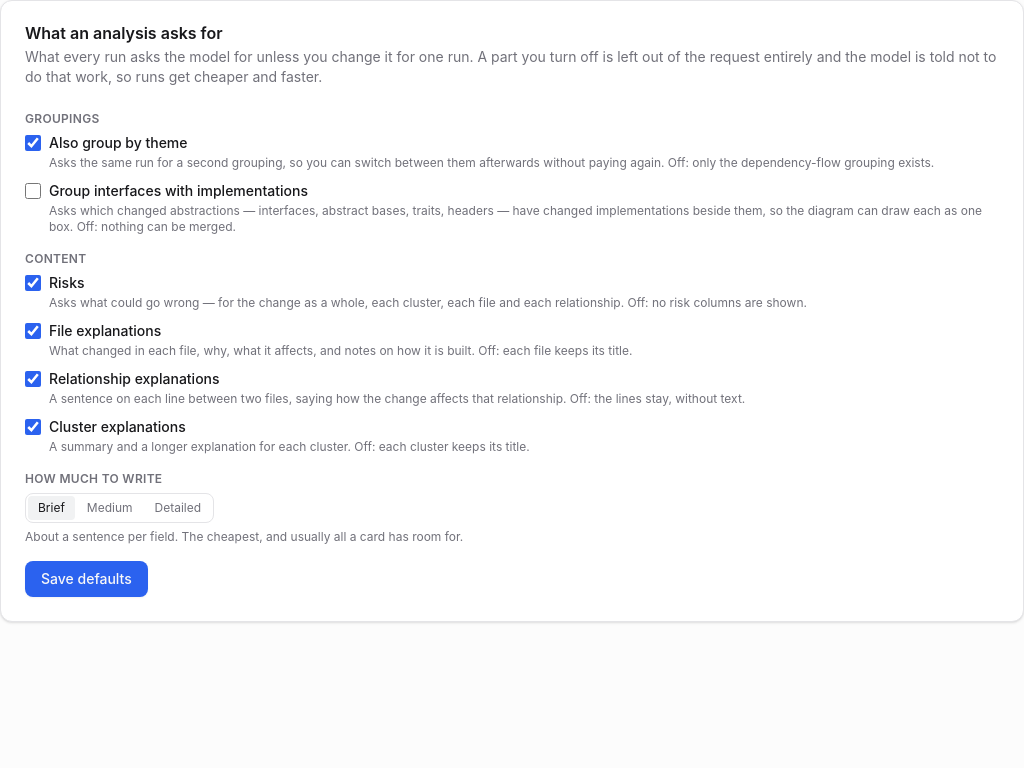
Test: AnalysisDefaultsForm › shows the stored defaults and saves the whole set when asked
Expected: the checkbox with test id "default-option-implementation-groups" is not checked, 25,183 -> 41,199
Expected: the text "Asks what could go wrong — for the change as a whole, each cluster, each file and each relationship. Off: no risk column" is shown, 49,295 -> 807,310
Click the checkbox with test id "default-option-risks" at (33, 283), box 25,275 -> 41,291
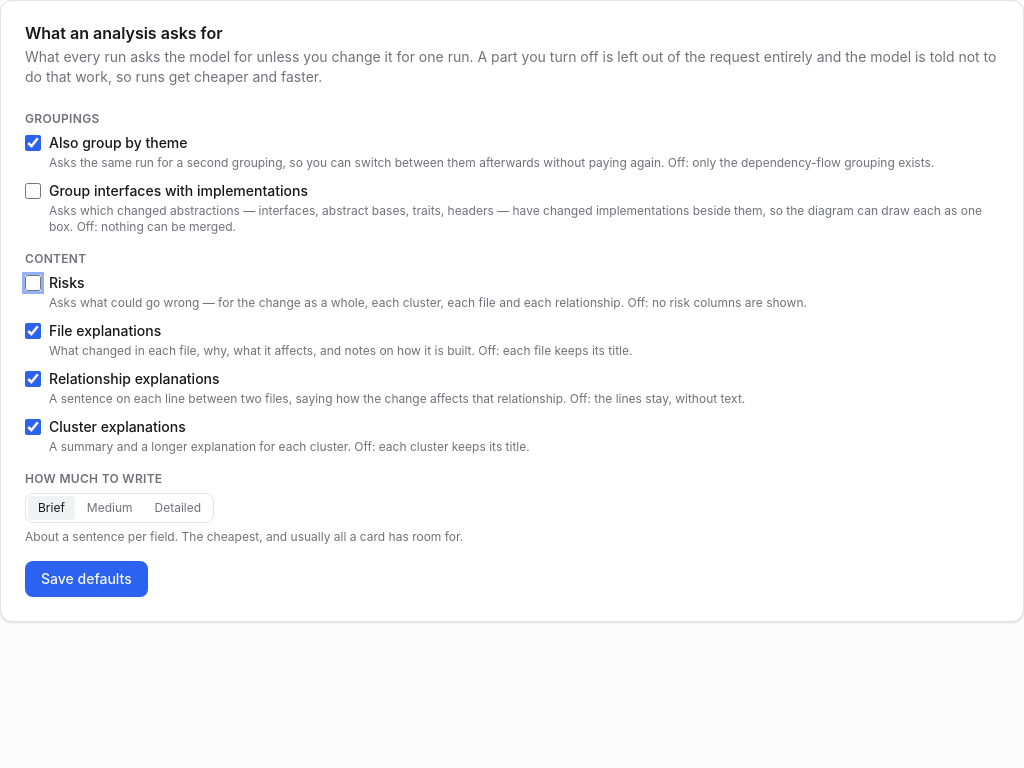
Click the button with test id "default-option-verbosity-medium" at (110, 508), box 77,496 -> 142,520
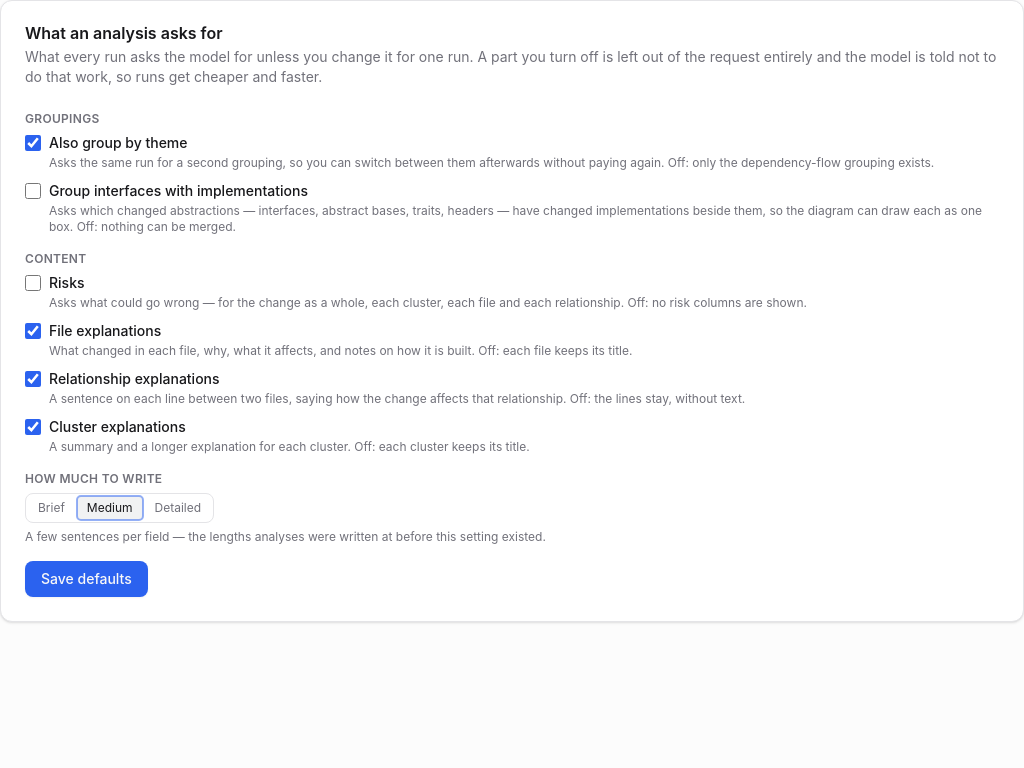
Click the button with test id "analysis-defaults-save" at (86, 579), box 25,561 -> 148,597
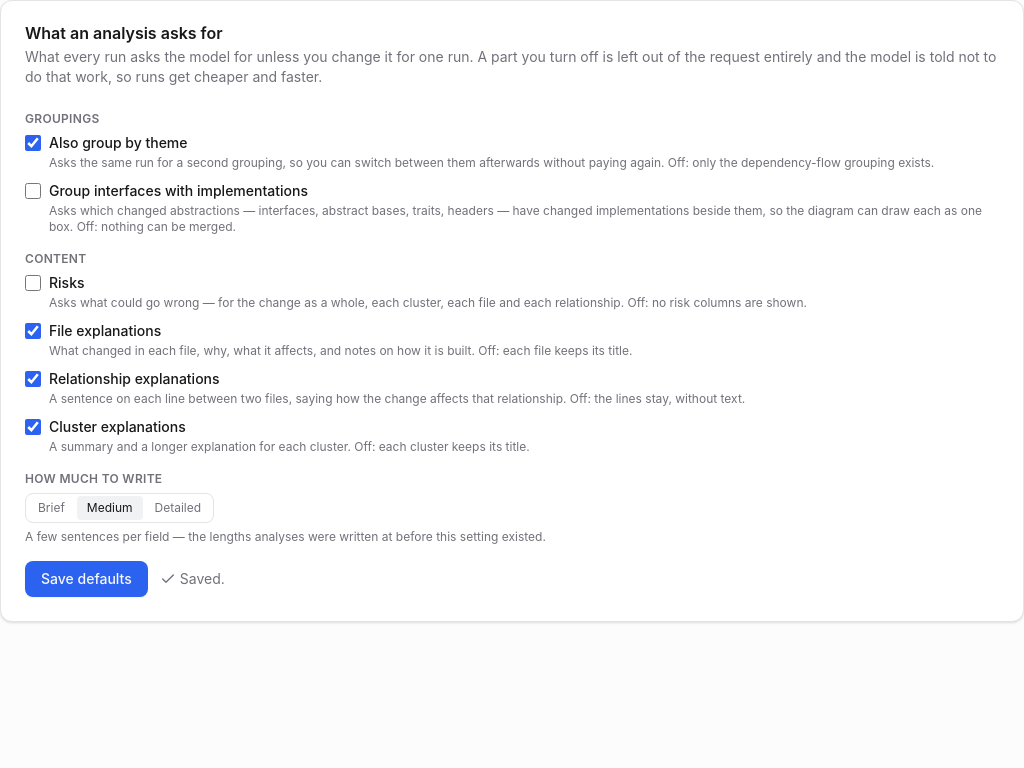
Now the text "Saved." is shown, box 160,569 -> 225,589
